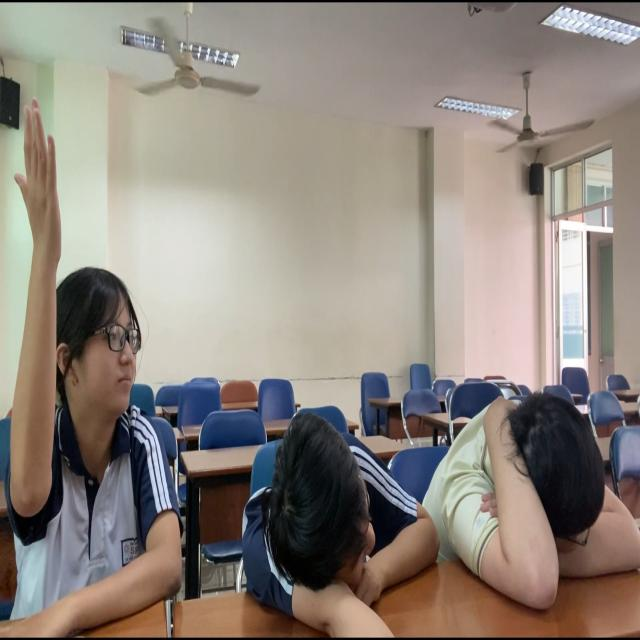raise_hand: (1, 85, 198, 636)
sleep: (462, 317, 640, 640), (216, 391, 434, 627)
